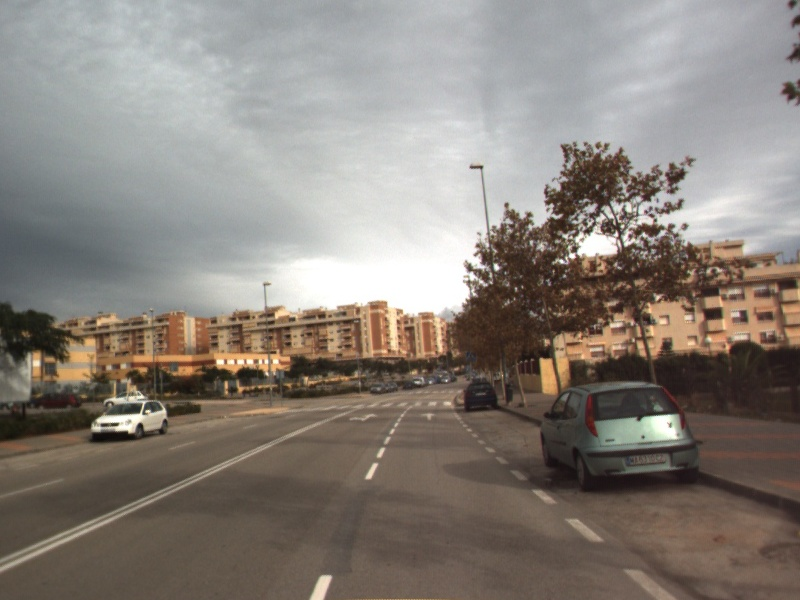STRAIGHT: (418, 410, 439, 422)
STRAIGHT_LEFT: (347, 411, 380, 424)
